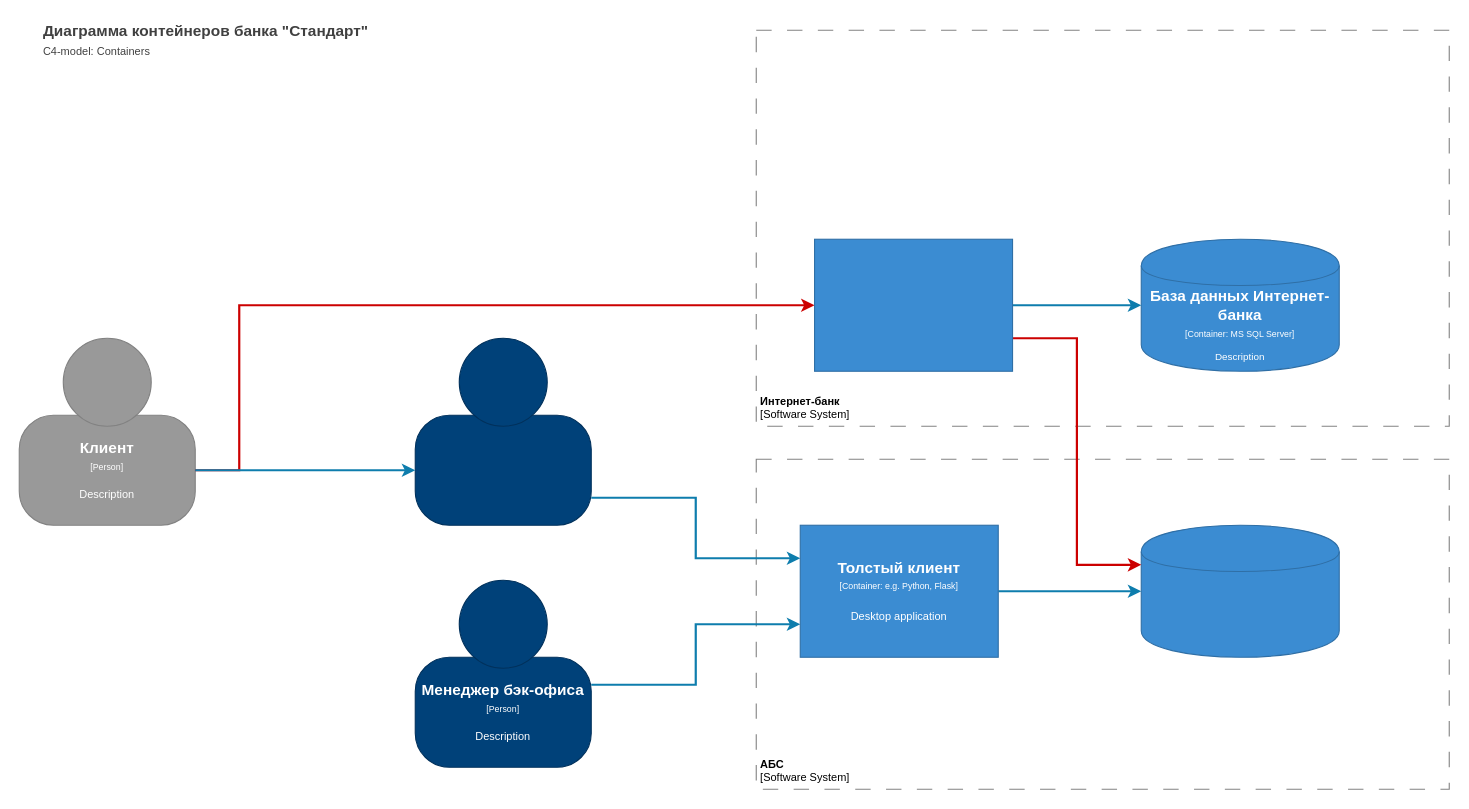
Some shapes in this 1469 by 809 pixel diagram are drawn without their labels. The shapes that lost their labels are listed below. From the top down, each one's centre as x and y in pixels, then its label:
At pixel 913 304: "Интернет-банк [Container: ASP.NET] Description".
At pixel 502 469: "Менеджер фронт-офиса [Person] Description".
At pixel 1239 590: "База данных АБС [Container: Oracle] Description".
